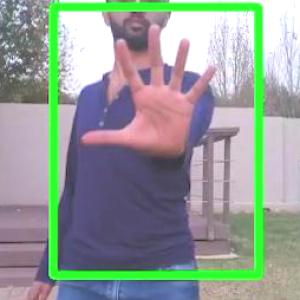follow_hand: (79, 20, 221, 167)
